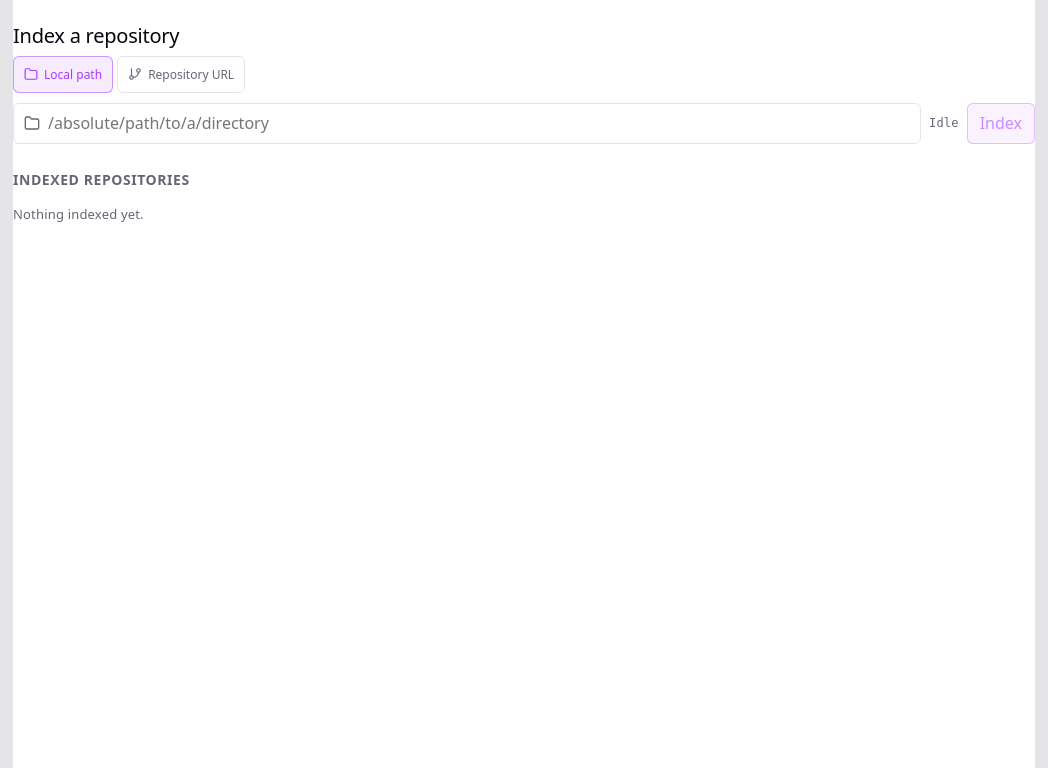
IndexPanel › shows an error message when starting the job fails (e.g. 400/409)
Type "/nope" into the field named "Directory path" at [479, 123], box top-left (48, 104), bottom-right (910, 143)
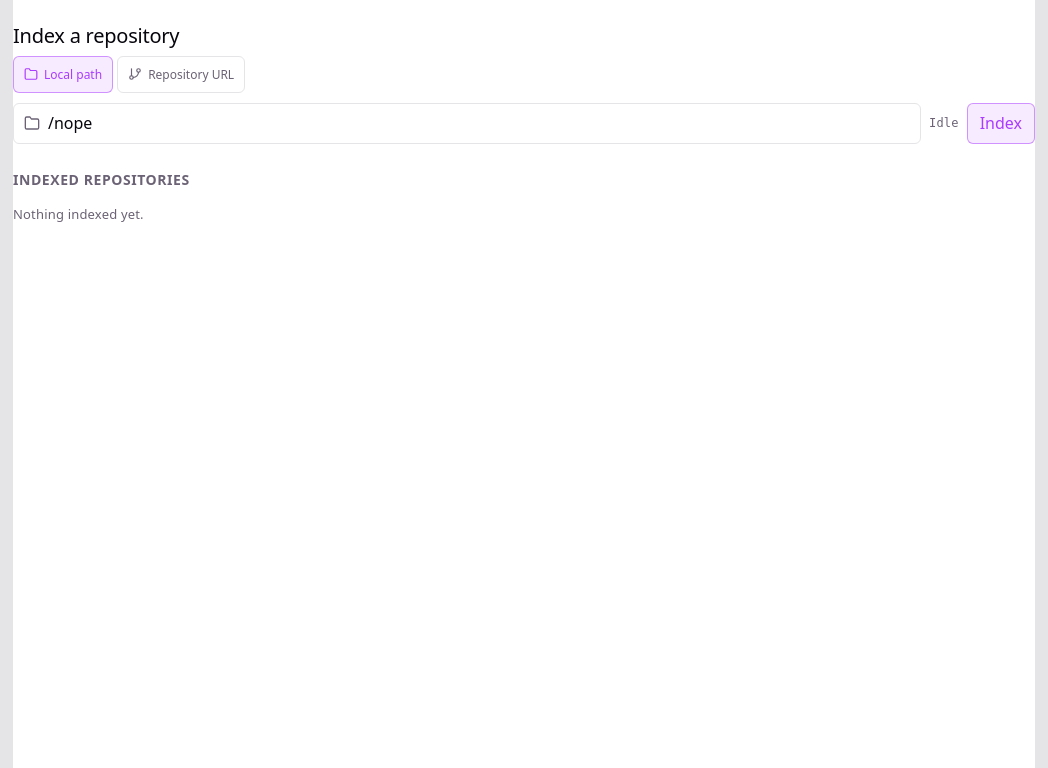
Submit the form, box top-left (13, 103), bottom-right (1035, 144)
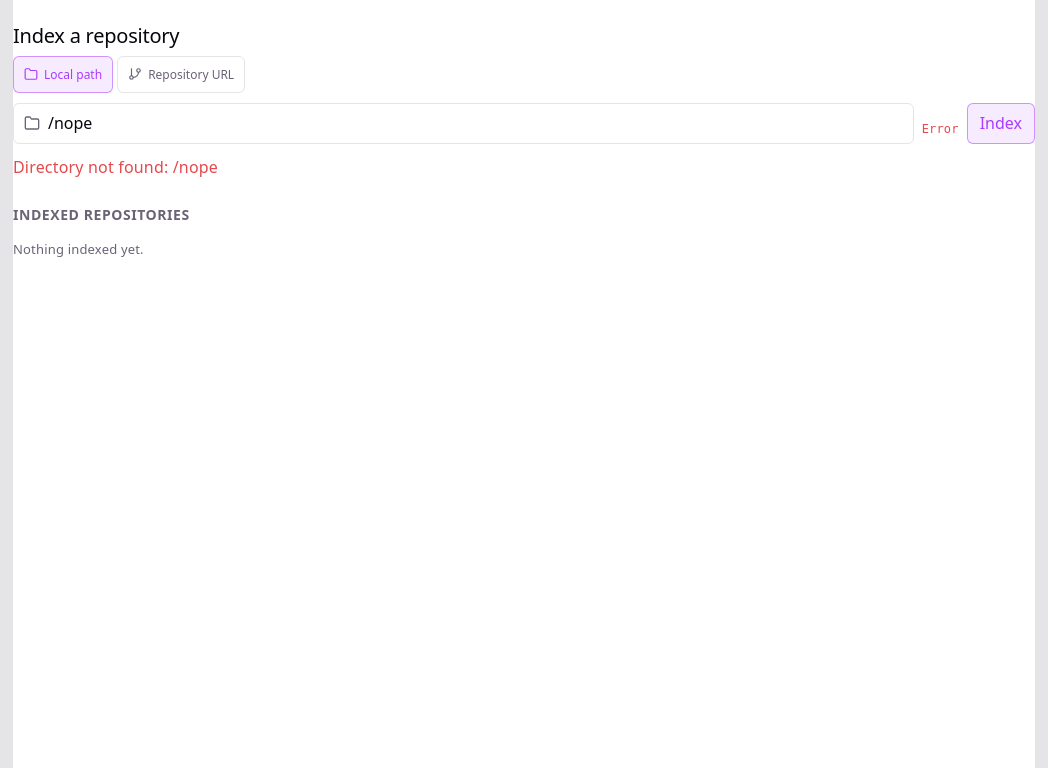
Expected: the message "Directory not found: /nope" is shown, top-left (13, 156), bottom-right (218, 178)
Expected: the text with class "status" reads "Error", top-left (922, 122), bottom-right (959, 136)
